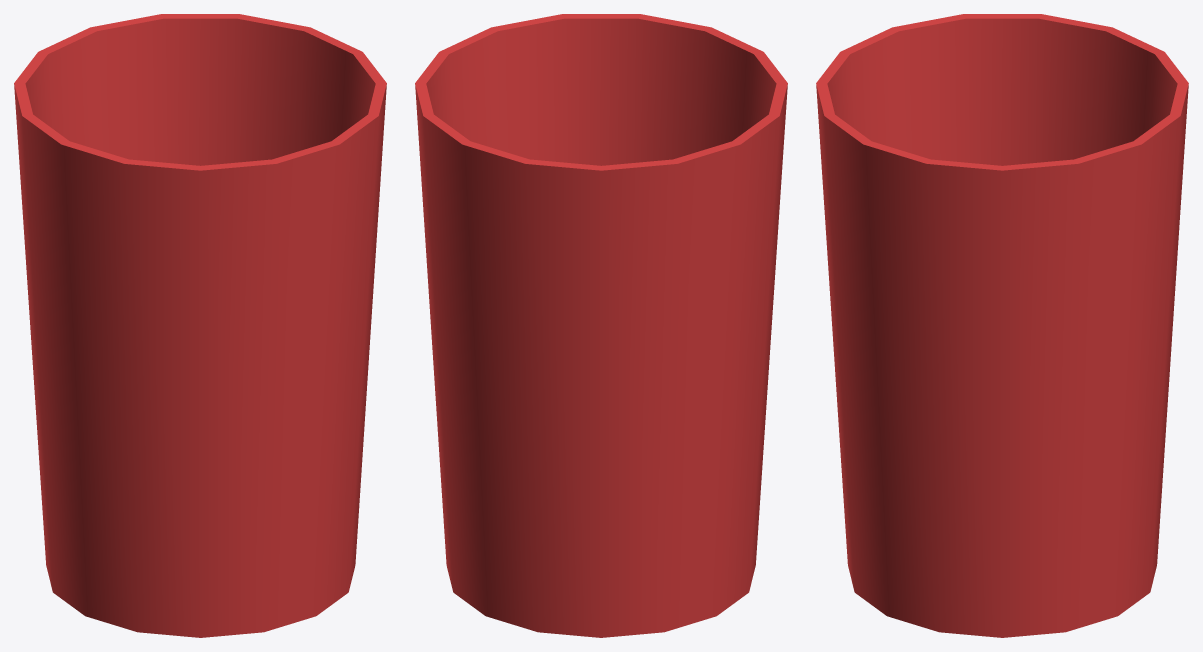
Rendered from HW_redCup.fbx.
The picture shows the model from 3 angles, left to right: view 1: azimuth 30°, elevation 25°; view 2: azimuth 150°, elevation 25°; view 3: azimuth 270°, elevation 25°; orthographic projection.
Parts seen in each view (by area): view 1: HW_redCup; view 2: HW_redCup; view 3: HW_redCup.
Boxes of the visible parts, left/top/right/bottom form: HW_redCup: left=14, top=14, right=386, bottom=637; HW_redCup: left=415, top=14, right=787, bottom=637; HW_redCup: left=816, top=14, right=1188, bottom=637.
Size of the model in its own units: 0.0924 by 0.1322 by 0.0929.
1 material, 1 textured.
